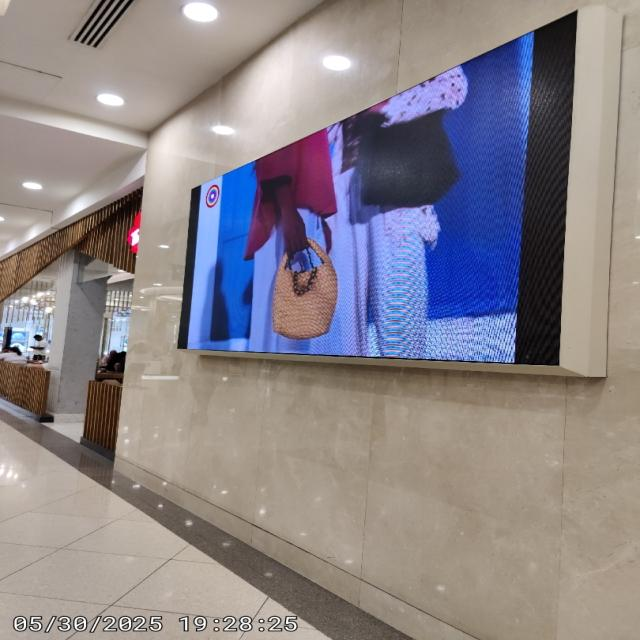digital-board-medium: (178, 9, 578, 365)
